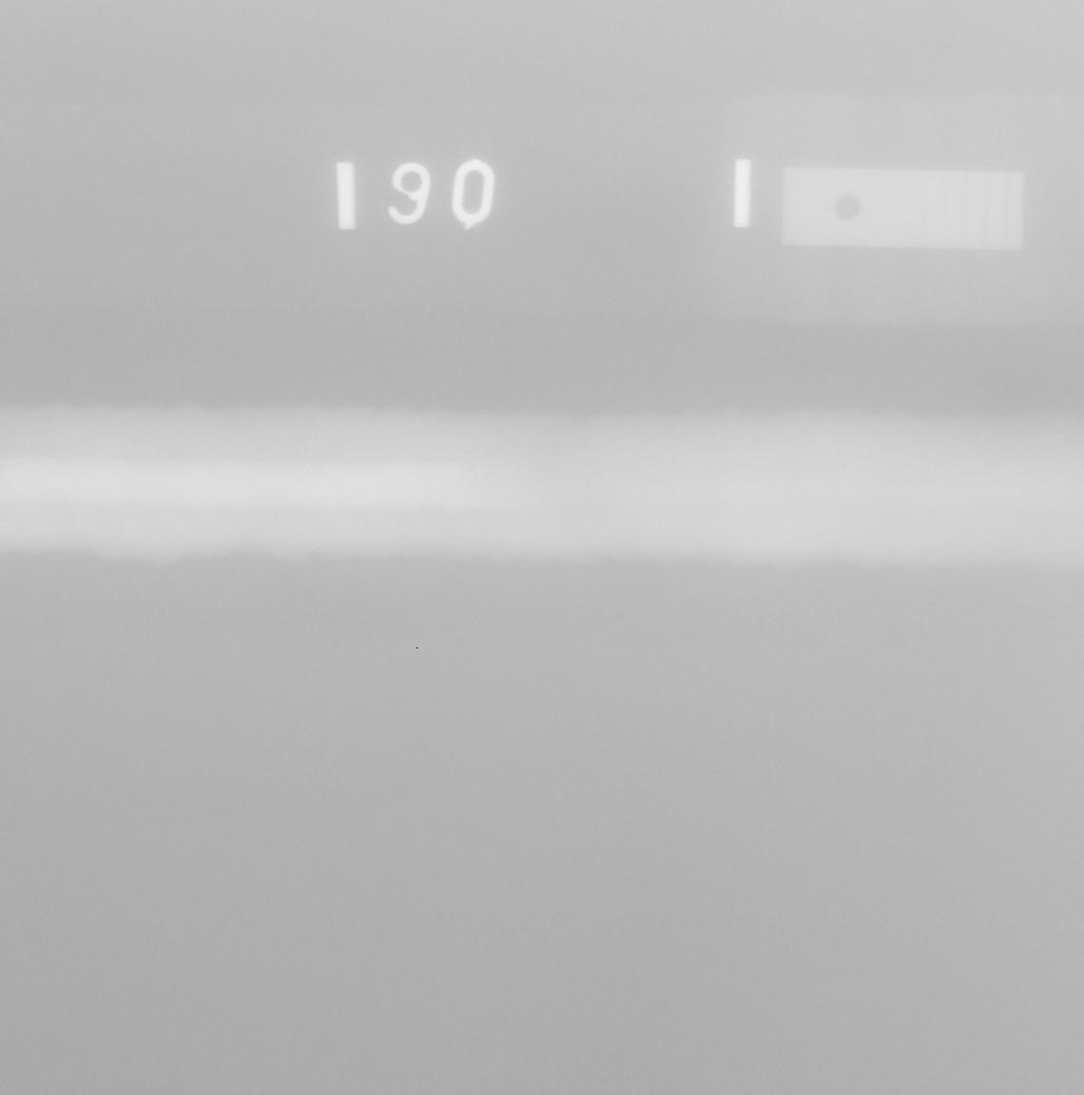Reference Standard 1: (782, 167, 1023, 250)
